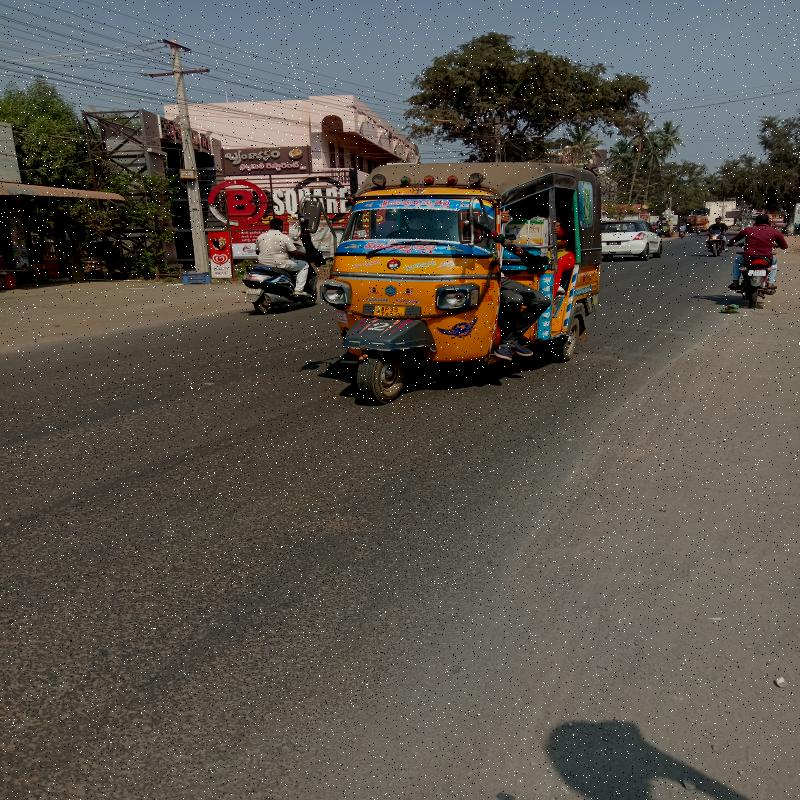auto: (330, 168, 592, 379)
